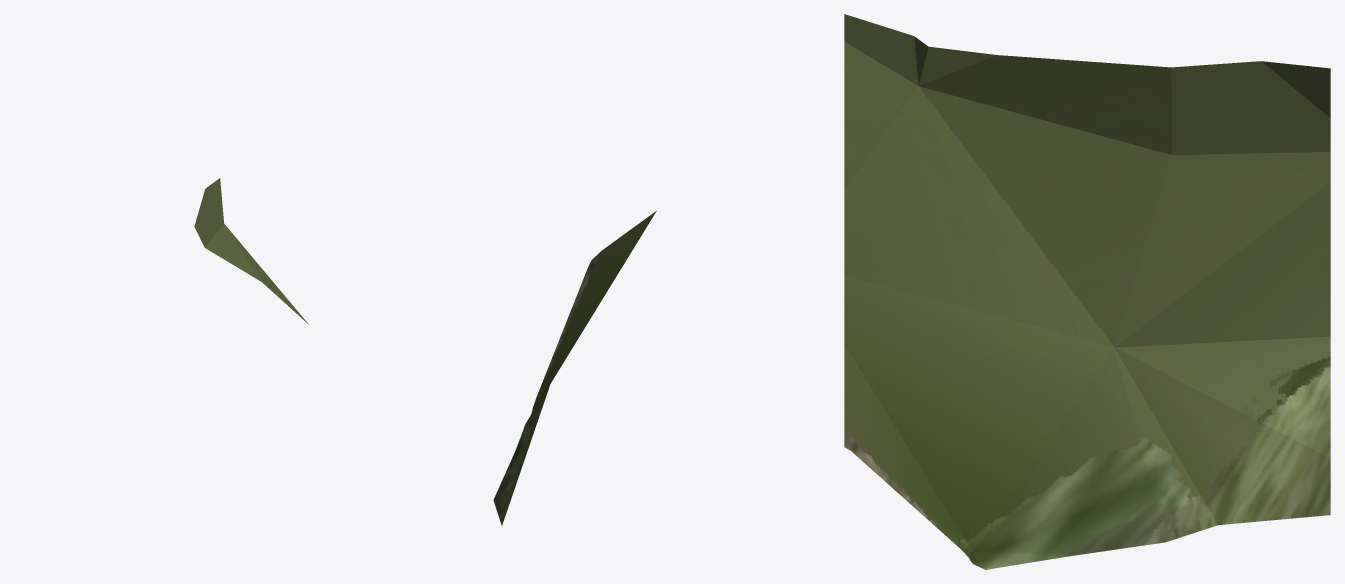
3 views of the same model, side by side, from view 1: azimuth 30°, elevation 25°; view 2: azimuth 150°, elevation 25°; view 3: azimuth 270°, elevation 25° (orthographic). The views are drawn at different scales.
Bounding box in the file's own units: 1.66 × 2.95 × 2.95.
3 materials, 3 textured.
